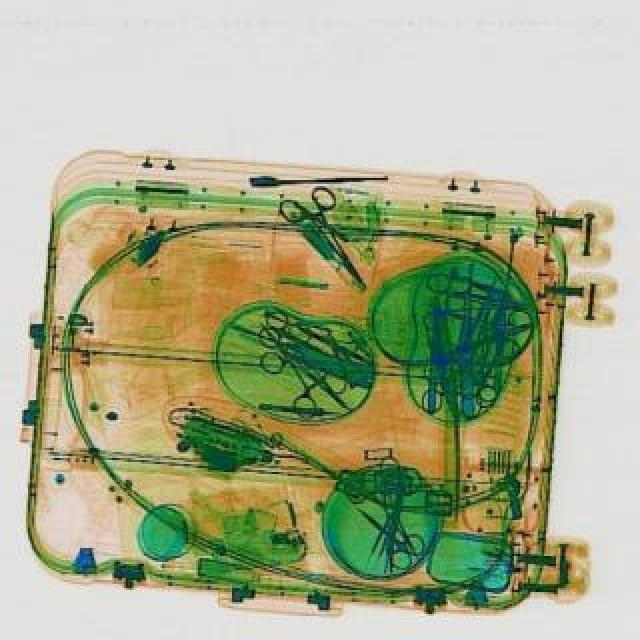pliers: (270, 178, 386, 300), (236, 302, 354, 418), (338, 488, 430, 574), (418, 272, 530, 332)
